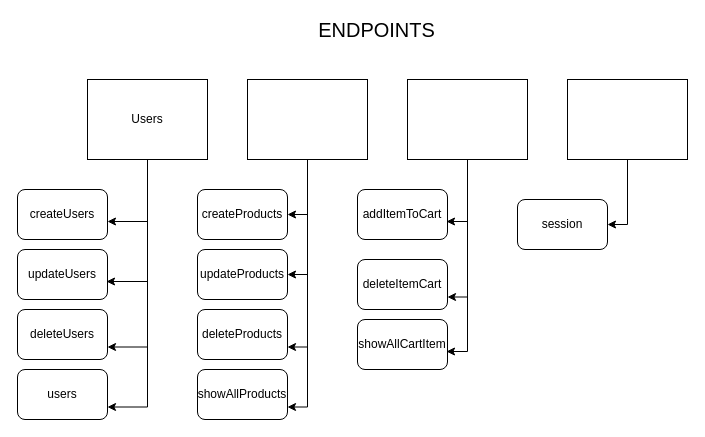
The diagram is 705 pixels wide and 437 high, and some of its shapes have lost their labels. Each missing label, with the box of its shape:
Carts: (406, 78, 528, 160)
Products: (246, 78, 368, 160)
Sessions: (566, 78, 688, 160)
